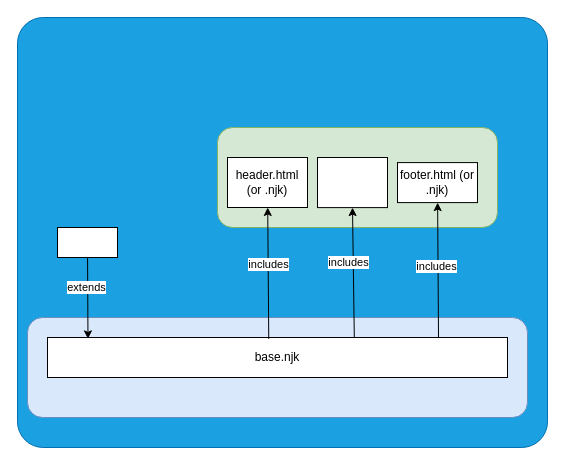
This 565x465 diagram has some shape labels left out. The centre of each missing label's shape, as x and y in pixels:
"index.html" goes at (x=87, y=242).
"sidebar.html (or .njk)" goes at (x=352, y=182).
